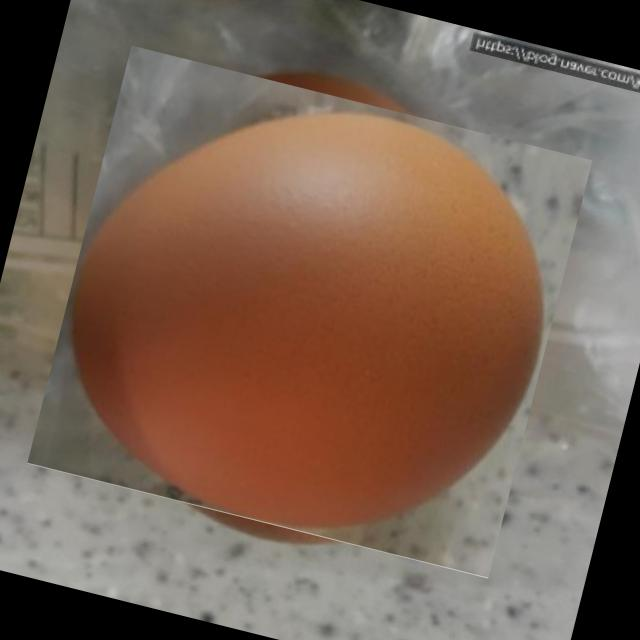eggs: (34, 37, 584, 586)
